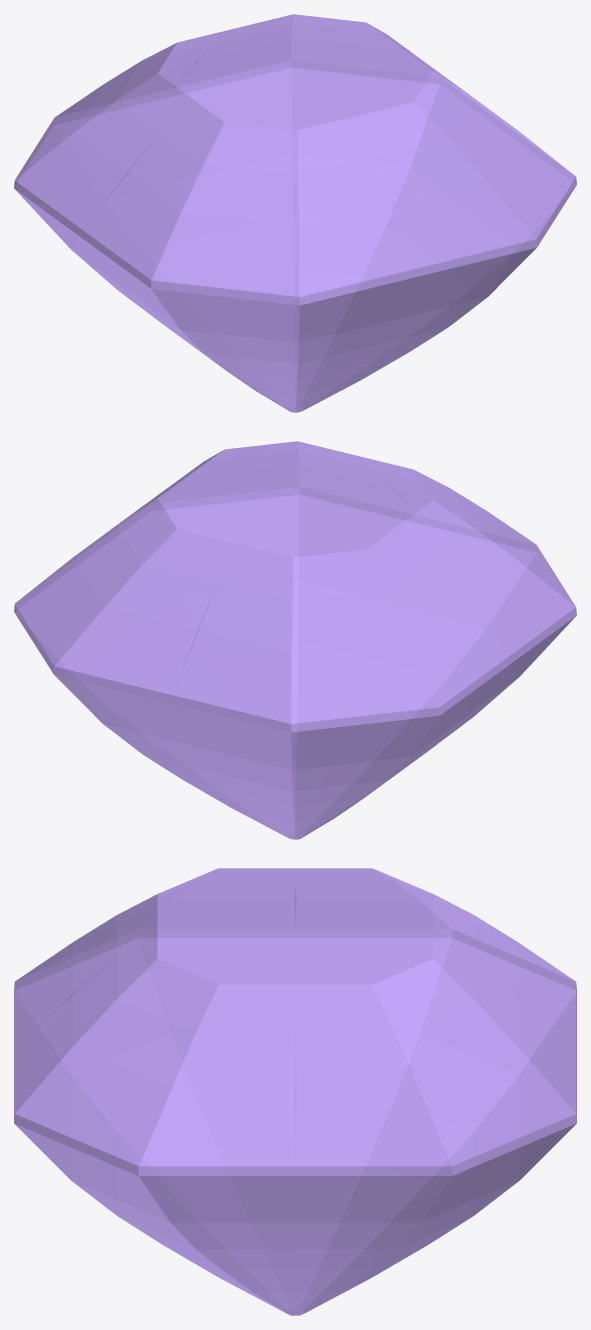
Rendered from assher ametiste.glb.
The picture shows the model from 3 angles, top to bottom: view 1: azimuth 30°, elevation 25°; view 2: azimuth 150°, elevation 25°; view 3: azimuth 270°, elevation 25°; orthographic projection. The views are drawn at different scales.
Visible parts, largest first — view 1: Asscher.001; view 2: Asscher.001; view 3: Asscher.001.
Boxes of the visible parts, bbox=[...] form: Asscher.001: bbox=[14, 14, 576, 412]; Asscher.001: bbox=[14, 441, 576, 839]; Asscher.001: bbox=[14, 868, 576, 1315].
Size of the model in its own units: 1.5 by 1.14 by 1.5.
